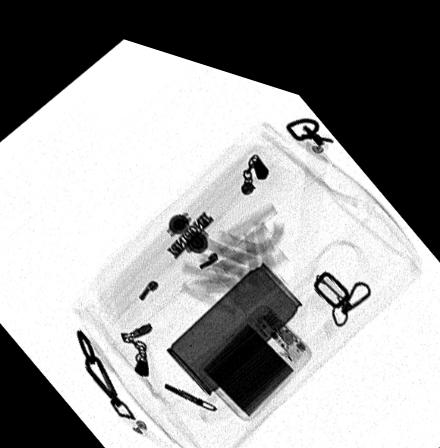Powerbank: (198, 287, 311, 406)
